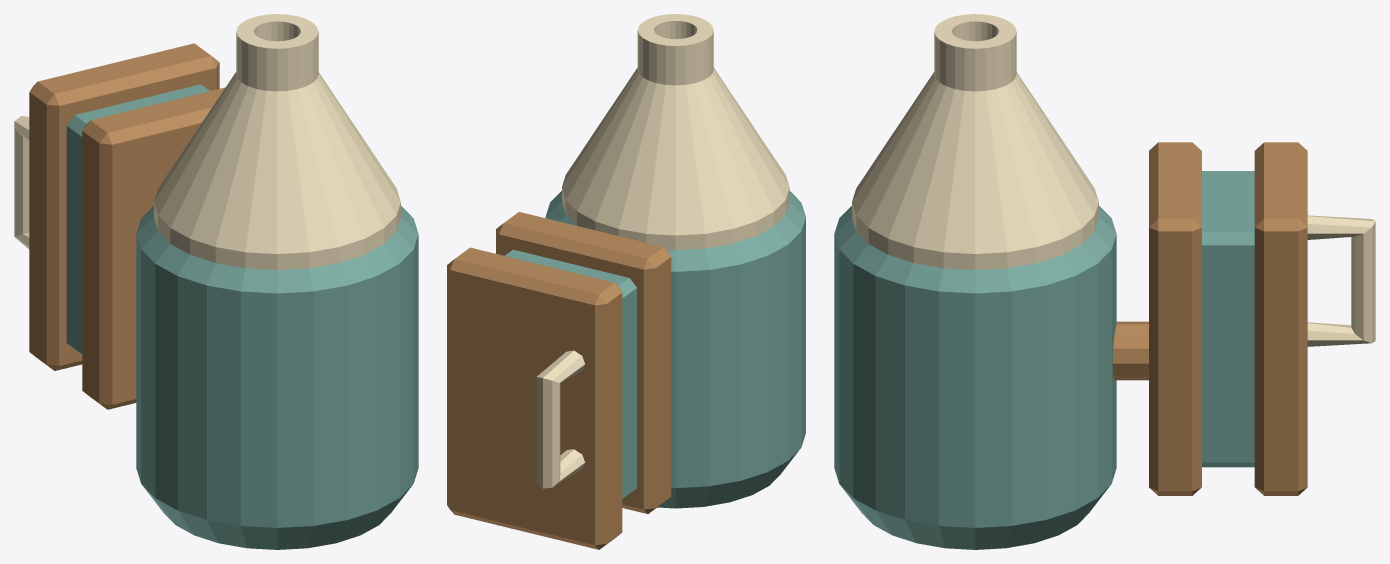
3 views of the same model, side by side, from view 1: azimuth 30°, elevation 25°; view 2: azimuth 150°, elevation 25°; view 3: azimuth 270°, elevation 25° (orthographic). The views are drawn at different scales.
Parts seen in each view (by area): view 1: beekeeping-smoker-01; view 2: beekeeping-smoker-01; view 3: beekeeping-smoker-01.
Boxes of the visible parts, left/top/right/bottom form: beekeeping-smoker-01: left=14, top=14, right=418, bottom=549; beekeeping-smoker-01: left=447, top=14, right=805, bottom=549; beekeeping-smoker-01: left=834, top=14, right=1375, bottom=549.
Size of the model in its own units: 0.24 by 0.44 by 0.4603.
